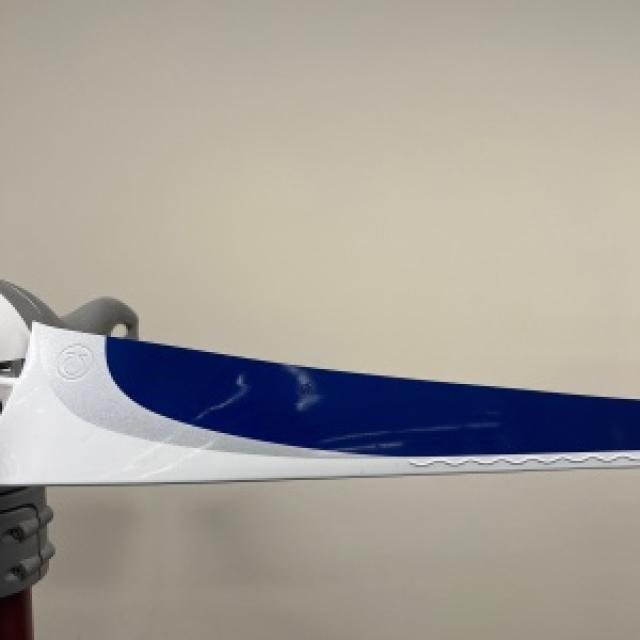healthy: (0, 279, 638, 484)
